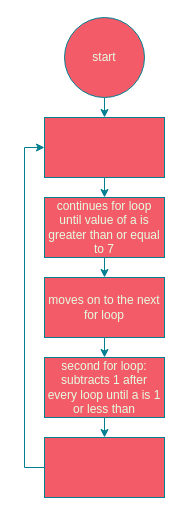
Some shapes in this 182 by 515 pixel diagram are drawn without their labels. The shapes that lost their labels are listed below. From the top down, each one's centre as x and y in pixels, then its label:
the point at 104,147: first for loop: a++ adds one to value of "a"
the point at 104,467: loops
